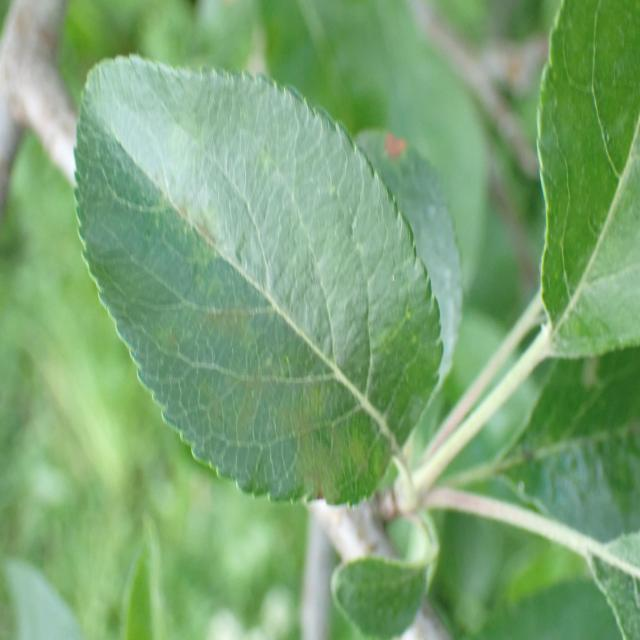scab: (105, 91, 436, 496)
